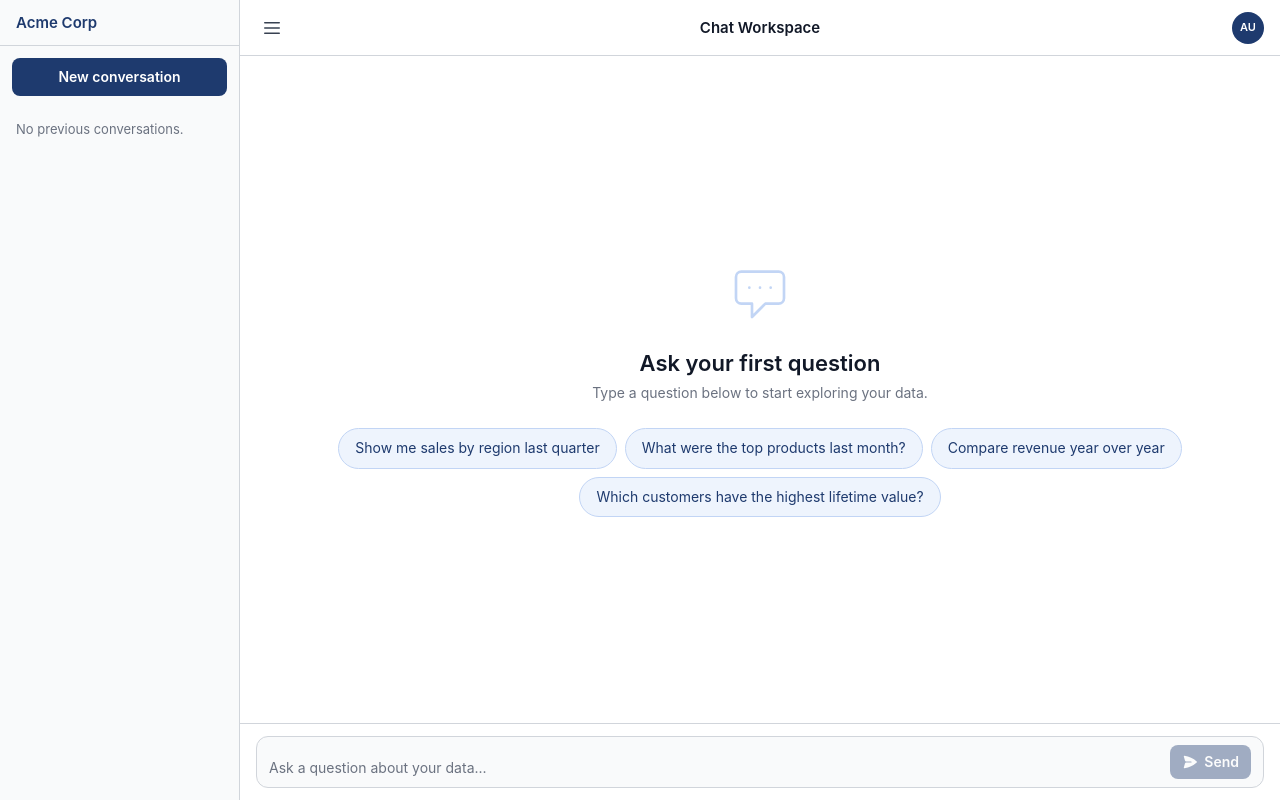
ChatPage — sidebar toggle › hides sidebar when hamburger clicked
Expected: the navigation bar "Acme Corp New conversation No previous conversations." is shown, [0,0,240,799]
Click the button named "toggle sidebar".
click(272, 28)  # box [256,12,288,44]
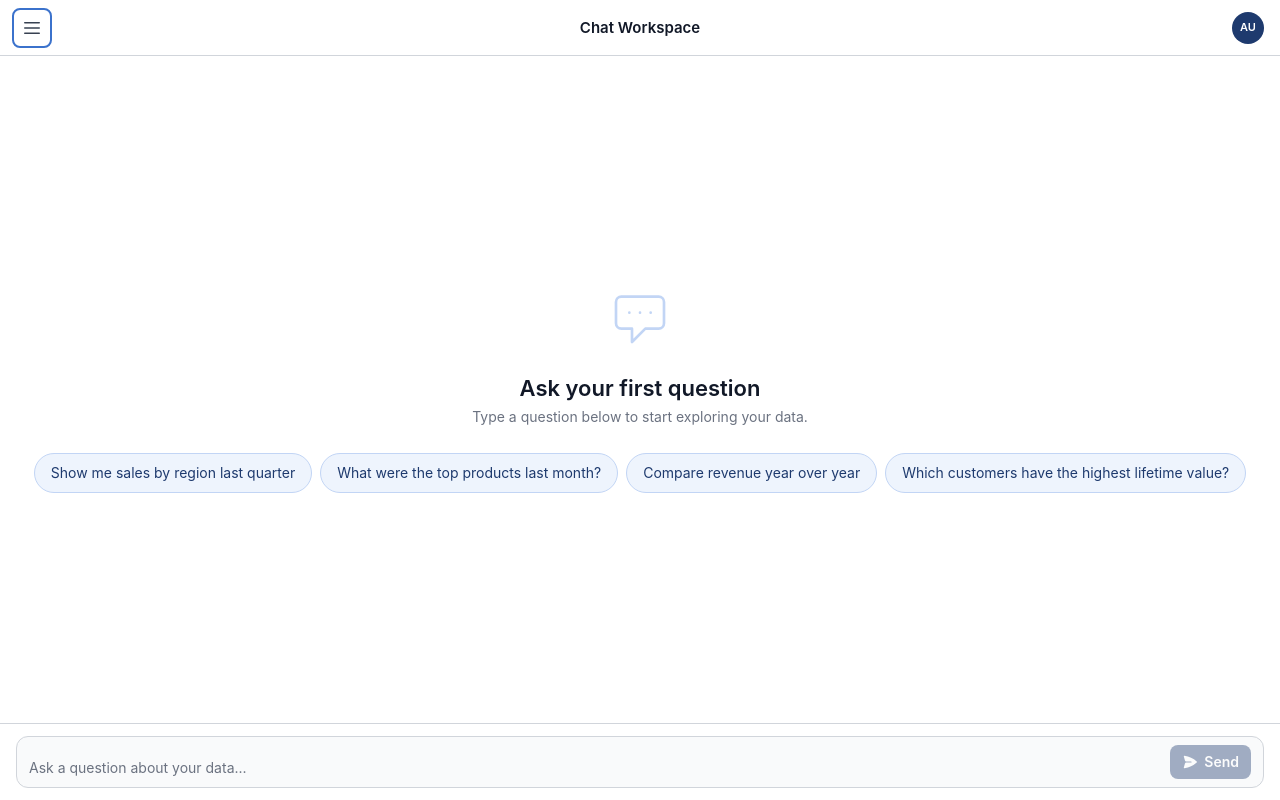
Expected: the text "conversations" is gone
